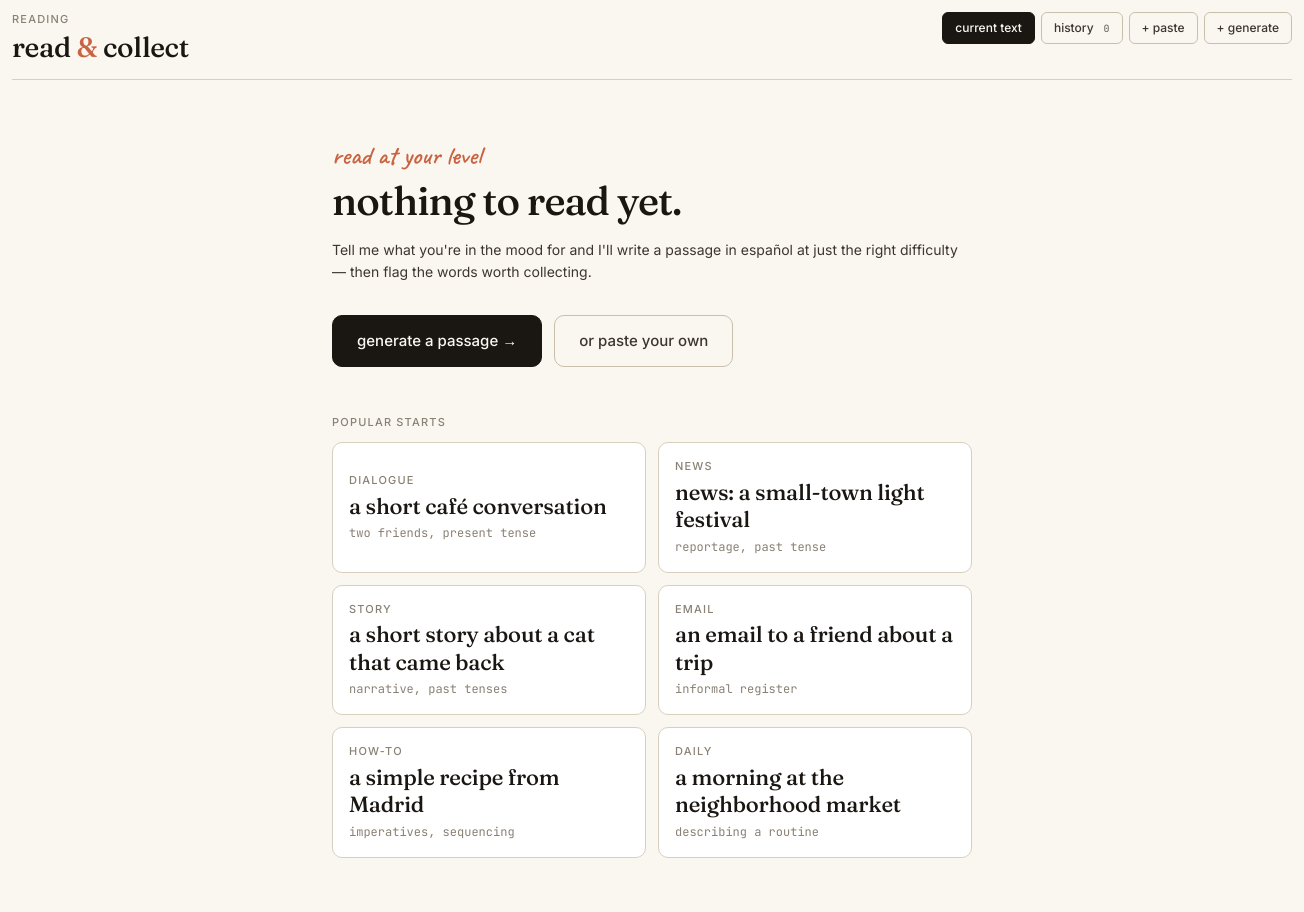
Test: ReadPage — generate flow › a successful generation feeds the text into the annotate pipeline
Step 1. Click the button "+ generate" → (1248, 28), box x1=1204 y1=12 x2=1292 y2=44
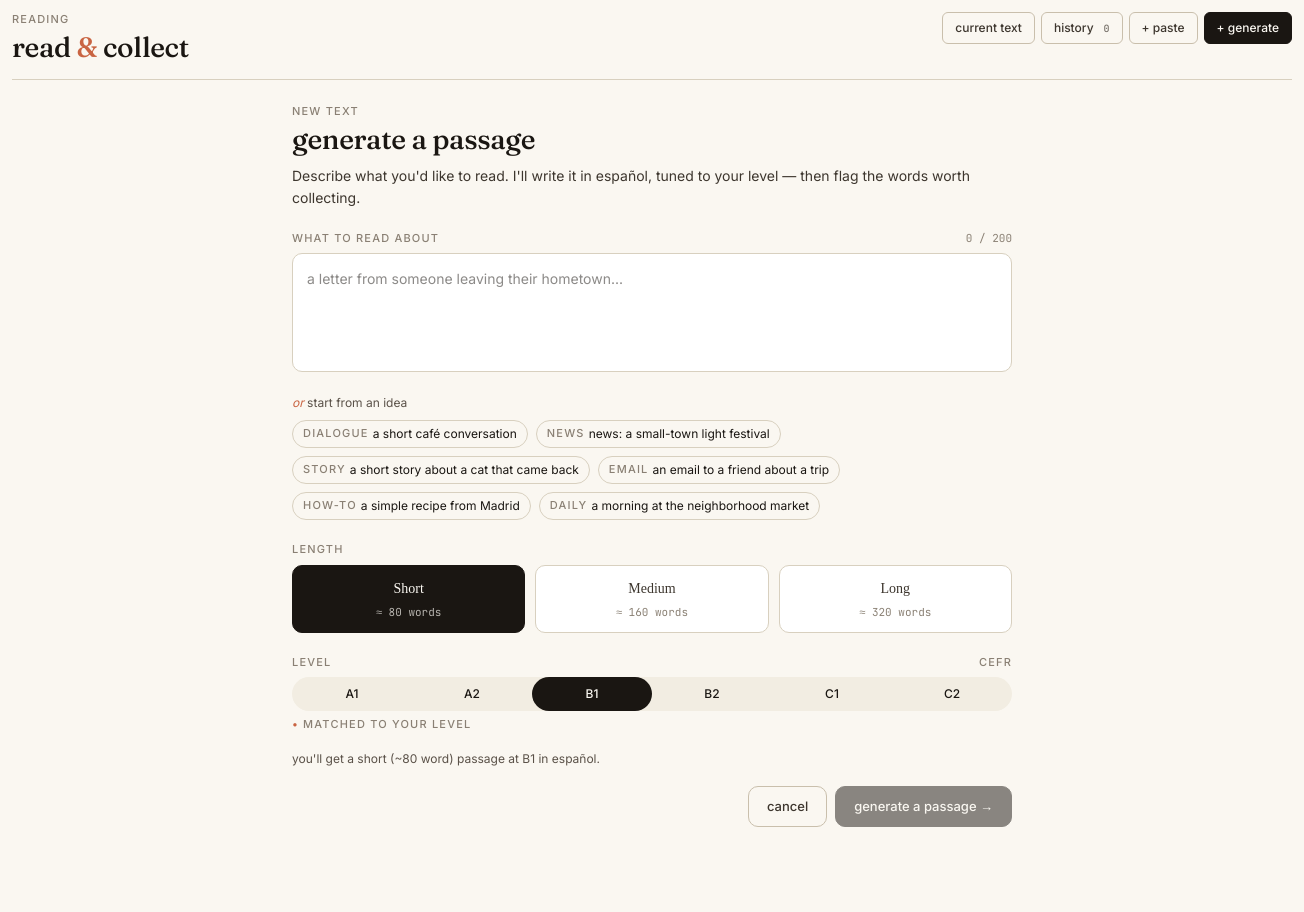
Step 2. Type "a cat" into the text box labelled "WHAT TO READ ABOUT" → (652, 313), box x1=292 y1=253 x2=1012 y2=372
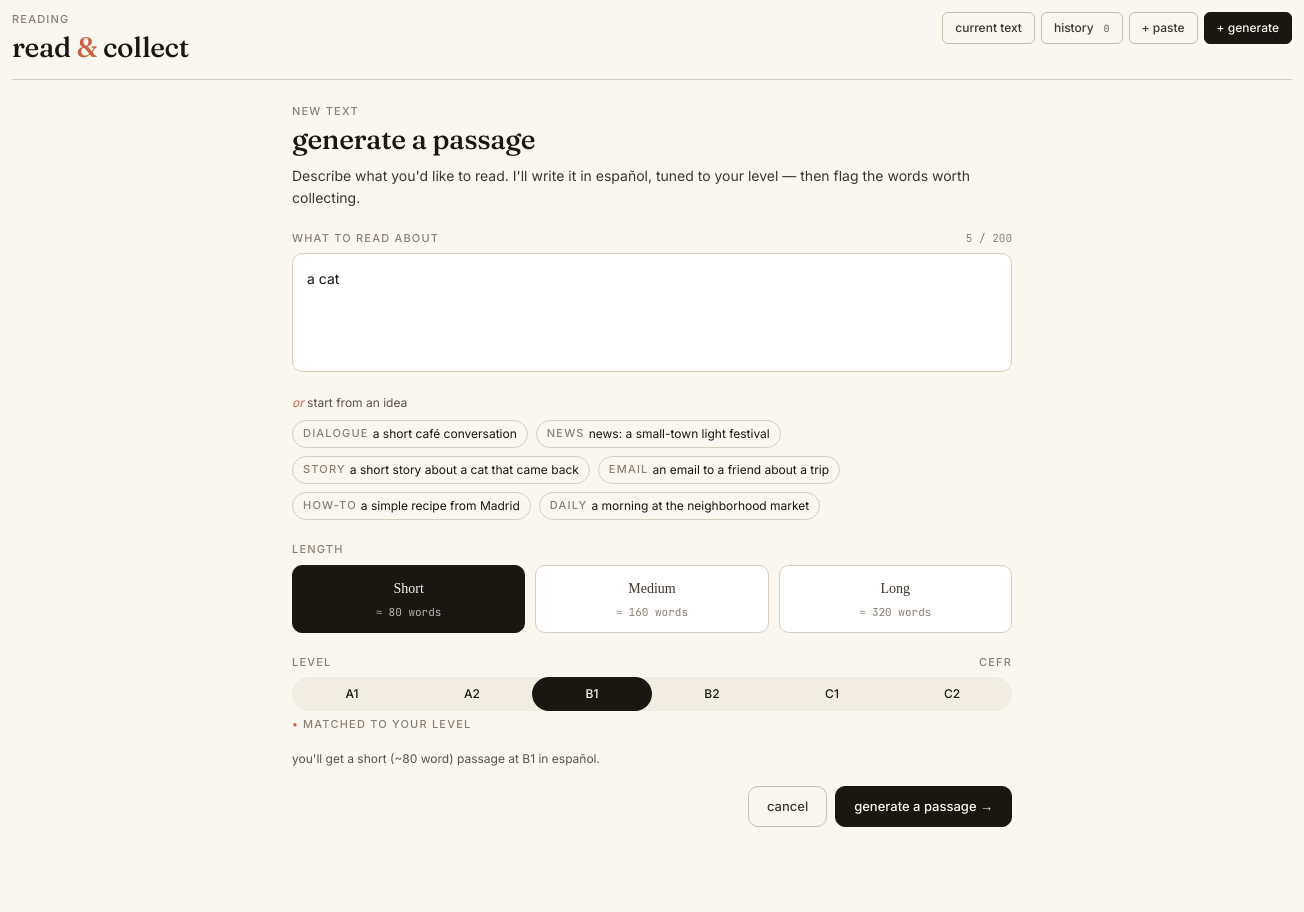
Step 3. Click the button "generate a passage →" → (924, 806), box x1=835 y1=786 x2=1012 y2=827
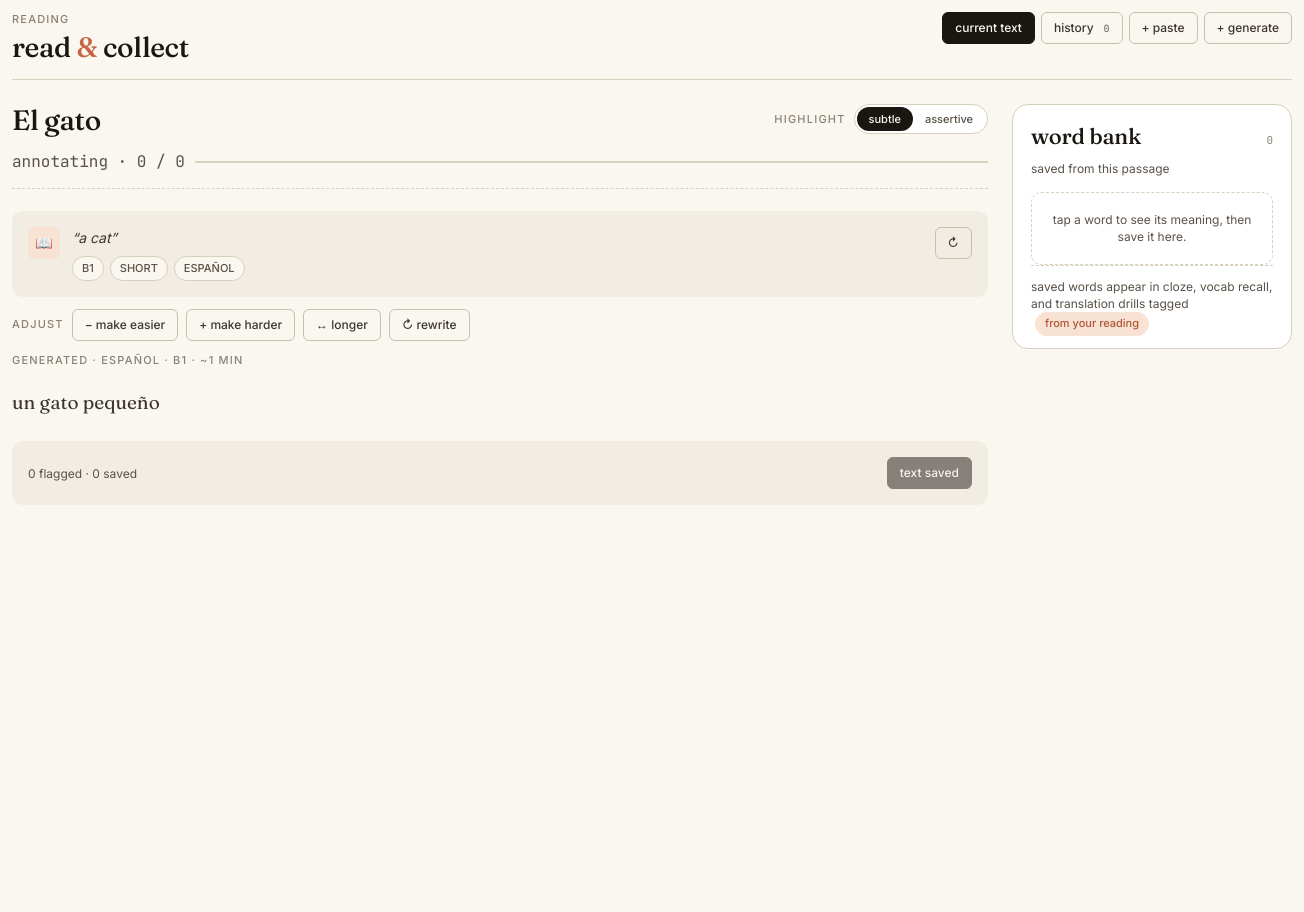
Expected: the element with test id "rd-text" reads "un gato pequeño", x1=12 y1=386 x2=160 y2=420
